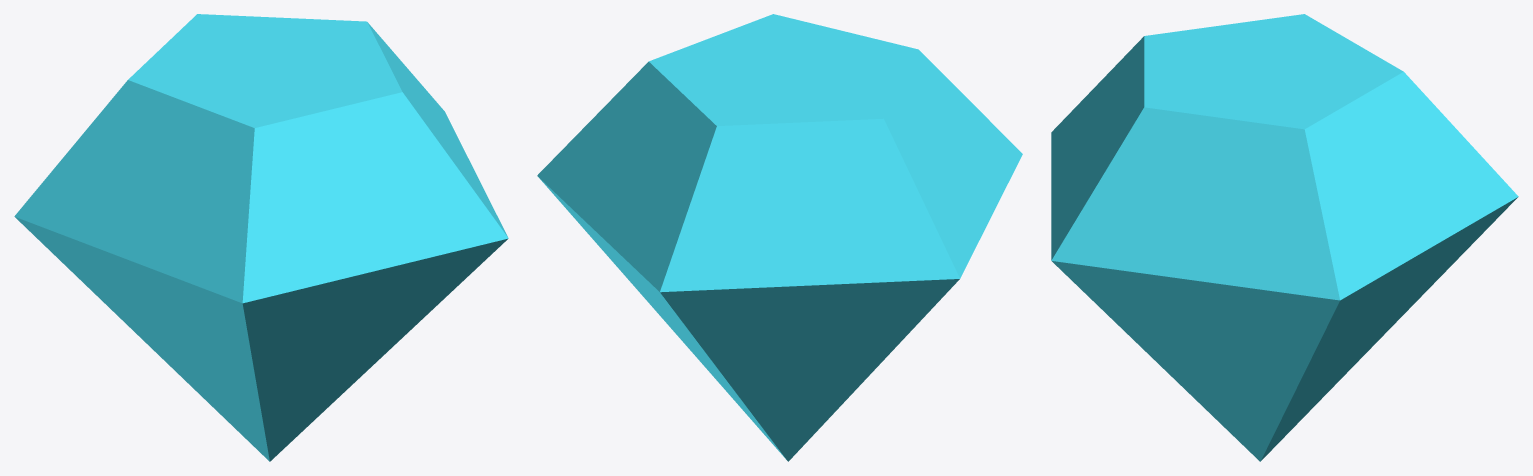
Rendered from item_diamond.fbx.
3 views of the same model, side by side, from view 1: azimuth 30°, elevation 25°; view 2: azimuth 150°, elevation 25°; view 3: azimuth 270°, elevation 25° (orthographic).
Parts seen in each view (by area): view 1: Body; view 2: Body; view 3: Body.
Part boxes in pixels (bbox=[...]): Body: bbox=[14, 14, 508, 461]; Body: bbox=[537, 14, 1022, 461]; Body: bbox=[1051, 14, 1518, 461].
Size of the model in its own units: 240 by 210 by 228.
